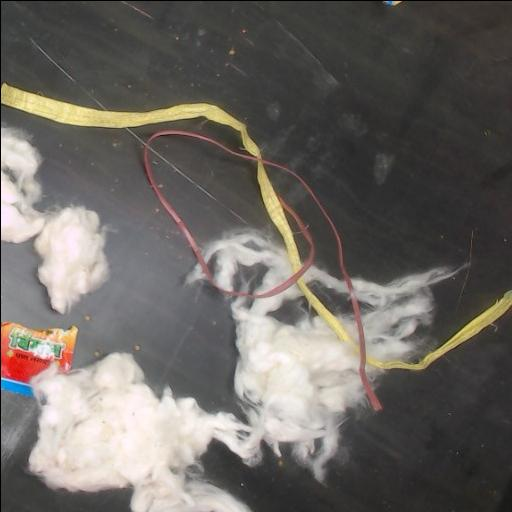conveyor belt: (1, 1, 512, 350), (1, 107, 236, 410), (203, 309, 512, 512), (1, 392, 129, 512), (151, 137, 267, 244)
cotton: (28, 285, 366, 512), (1, 127, 109, 313), (353, 269, 447, 359), (205, 230, 290, 293)
packet: (1, 322, 77, 394)
thread: (1, 83, 381, 409), (1, 83, 304, 276), (365, 290, 512, 369), (369, 293, 512, 368), (297, 274, 358, 352)
